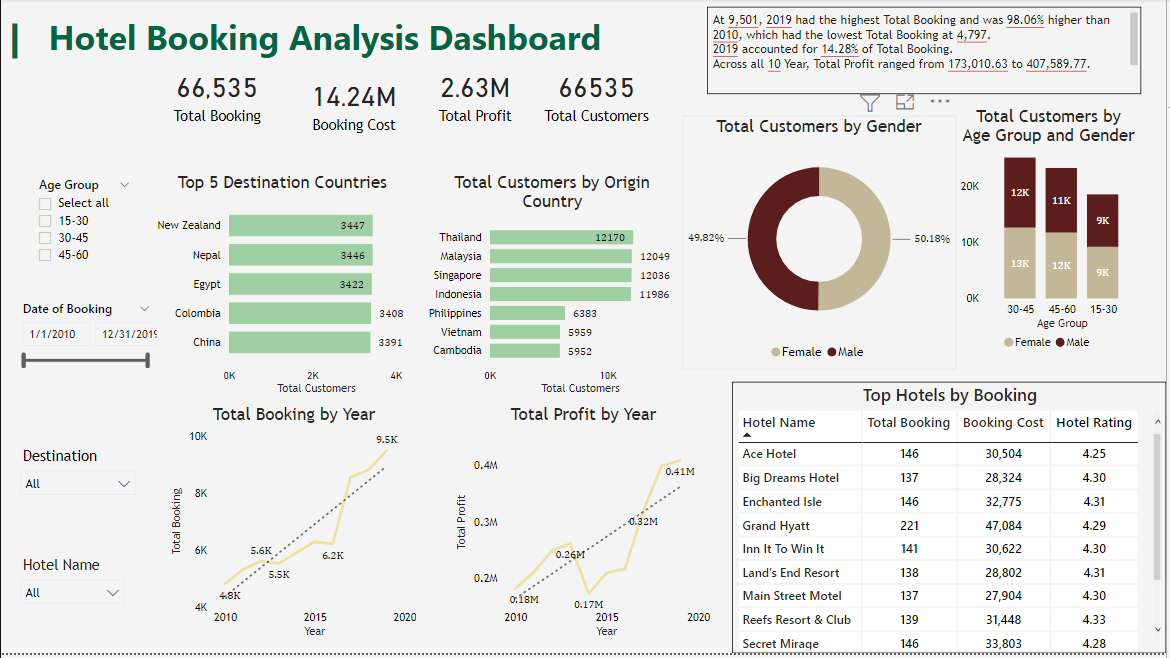

Layout of this report page (visuals, bound fields, positions):
{"tool":"powerbi","page":{"name":"Page 1","canvas":[1280,720],"ordinal":0},"visuals":[{"type":"card","fields":{"Values":["Order Database.Total Booking"]},"box":[175.8,48.1,123.6,115.4],"z":0},{"type":"card","fields":{"Values":["Order Database.Booking Cost"]},"box":[321.4,57.7,133.2,115.4],"z":1000},{"type":"card","fields":{"Values":["Order Database.Total Profit Margin"]},"box":[454.6,48.1,133.2,115.4],"z":2000},{"type":"card","fields":{"Values":["Order Database.Total Customers"]},"box":[587.8,48.1,133.2,115.4],"z":3000},{"type":"clusteredBarChart","title":"Top 5 Destination Countries","fields":{"Y":["Order Database.Total Customers"],"Category":["Order Database.Destination Country"]},"box":[163.4,190.9,291.2,250],"z":4000},{"type":"clusteredBarChart","title":"Total Customers by Origin Country","fields":{"Y":["Order Database.Total Customers"],"Category":["Order Database.Origin Country"]},"box":[460.1,190.9,291.2,250],"z":5000},{"type":"donutChart","fields":{"Y":["Order Database.Total Customers"],"Category":["Order Database.Gender"]},"box":[748.5,129.1,300.8,278.8],"z":6000},{"type":"columnChart","fields":{"Y":["Order Database.Total Customers"],"Category":["Order Database.Age Group"],"Series":["Order Database.Gender"]},"box":[1049.3,118.1,203.3,278.8],"z":7000},{"type":"lineChart","fields":{"Y":["Order Database.Total Booking"],"Category":["Order Database.Year"]},"box":[182.7,446.4,278.8,260.9],"z":8000},{"type":"lineChart","fields":{"Category":["Order Database.Year"],"Y":["Order Database.Total Profit"]},"box":[495.8,446.4,288.4,260.9],"z":9000},{"type":"tableEx","title":"Top Hotels by Booking","fields":{"Values":["Order Database.Hotel Name","Order Database.Total Booking","Order Database.Booking Cost","Avg(Order Database.Hotel Rating)"]},"box":[803.4,421.6,476.6,298],"z":10000},{"type":"slicer","fields":{"Values":["Order Database.Age Group"]},"box":[28.8,190.9,125,125],"z":11000},{"type":"slicer","fields":{"Values":["Order Database.Date of Booking"]},"box":[11,326.9,164.8,140.1],"z":12000},{"type":"slicer","fields":{"Values":["Order Database.Destination Country"]},"box":[11,488.9,147,87.9],"z":13000},{"type":"slicer","fields":{"Values":["Order Database.Hotel Name"]},"box":[11,608.4,134.6,98.9],"z":14000},{"type":"textbox","box":[776,9.6,476.6,96.1],"z":15000},{"type":"textbox","box":[4.1,12.4,744.4,61.8],"z":15001}]}

Visuals, with their boxes in screenshot pixels (x1, y1, x2, y2), scaled from the page's 1280x720 canvas onto the 1170x658 screenshot:
card - Order Database.Total Booking: left=161, top=44, right=274, bottom=149
card - Order Database.Booking Cost: left=294, top=53, right=416, bottom=158
card - Order Database.Total Profit Margin: left=416, top=44, right=537, bottom=149
card - Order Database.Total Customers: left=537, top=44, right=659, bottom=149
"Top 5 Destination Countries" clusteredBarChart: left=149, top=174, right=416, bottom=403
"Total Customers by Origin Country" clusteredBarChart: left=421, top=174, right=687, bottom=403
donutChart - Order Database.Total Customers x Order Database.Gender: left=684, top=118, right=959, bottom=373
columnChart - Order Database.Total Customers x Order Database.Age Group: left=959, top=108, right=1145, bottom=363
lineChart - Order Database.Total Booking x Order Database.Year: left=167, top=408, right=422, bottom=646
lineChart - Order Database.Year x Order Database.Total Profit: left=453, top=408, right=717, bottom=646
"Top Hotels by Booking" tableEx: left=734, top=385, right=1169, bottom=657
slicer - Order Database.Age Group: left=26, top=174, right=141, bottom=289
slicer - Order Database.Date of Booking: left=10, top=299, right=161, bottom=427
slicer - Order Database.Destination Country: left=10, top=447, right=144, bottom=527
slicer - Order Database.Hotel Name: left=10, top=556, right=133, bottom=646
textbox: left=709, top=9, right=1145, bottom=97
textbox: left=4, top=11, right=684, bottom=68
